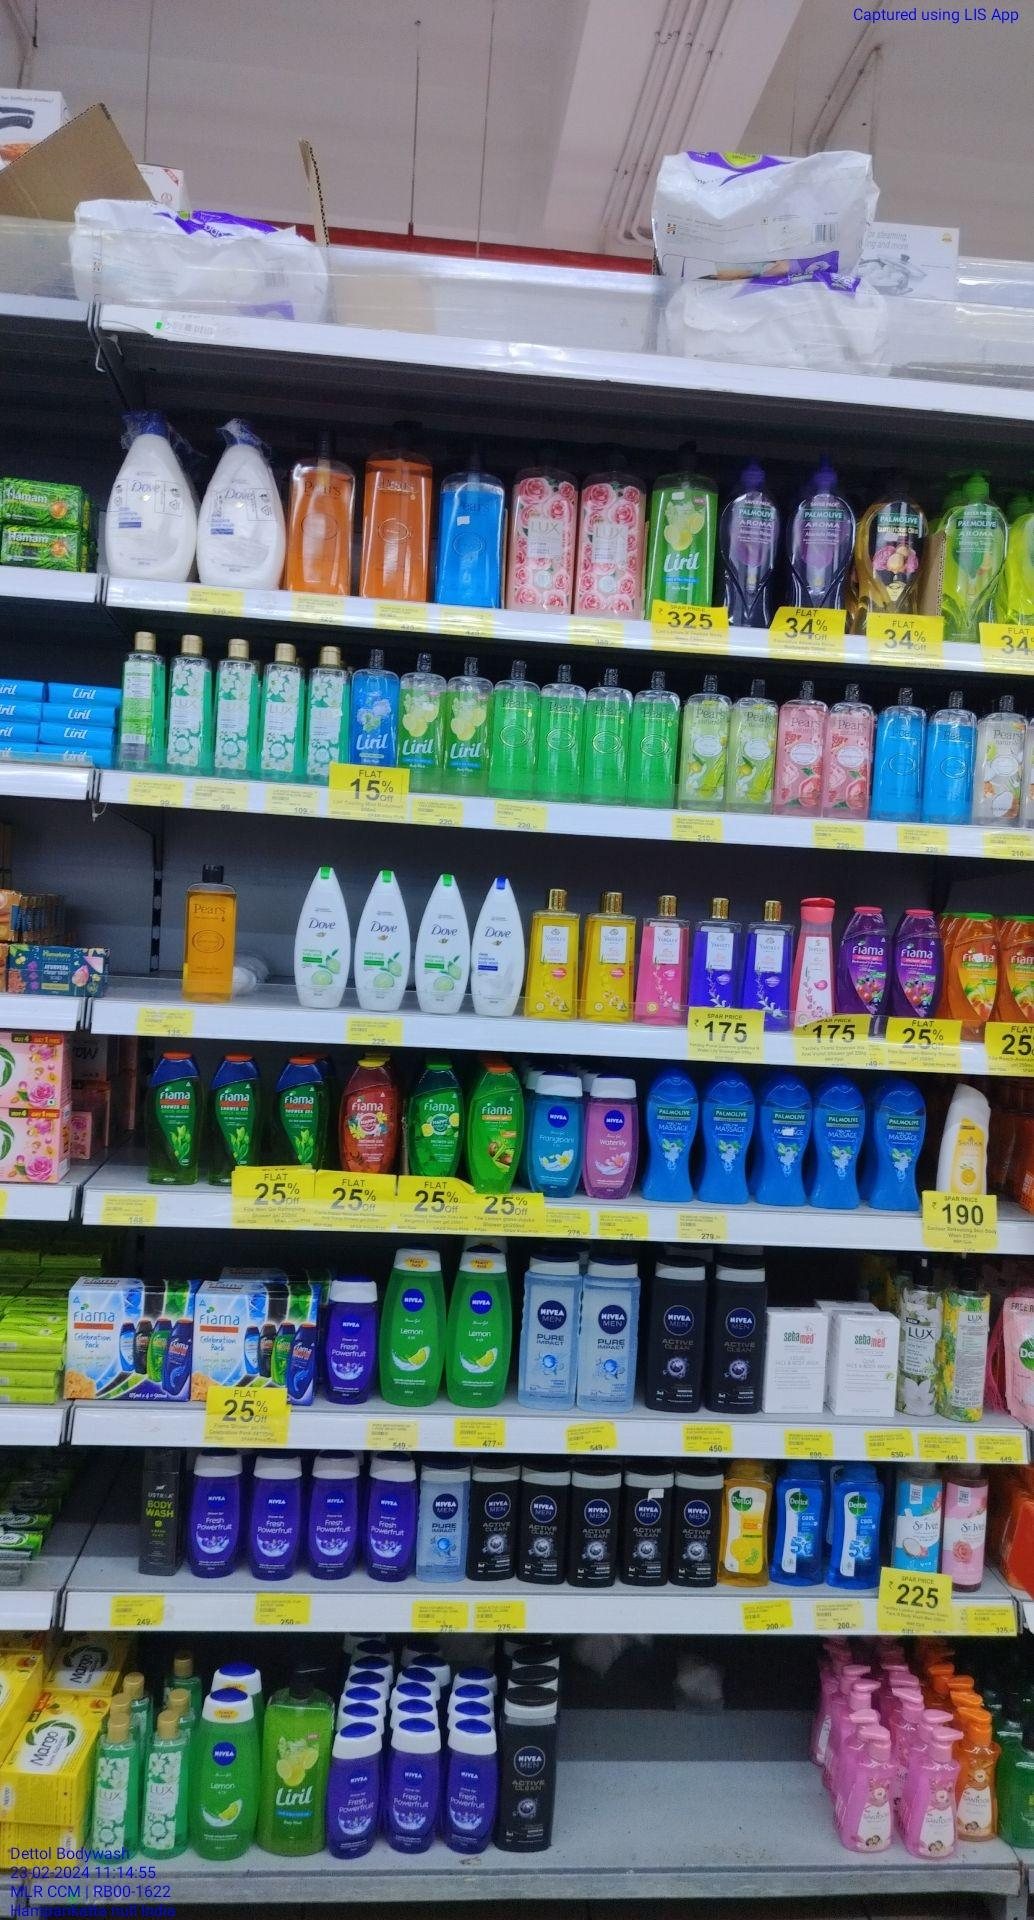Dettol_Bodywash_Cool: (829, 1465, 884, 1590), (774, 1462, 826, 1586)
Dettol_Bodywash_Refresh: (723, 1458, 772, 1586)
Dove_Deep_Moisture_Body_Wash_250ML: (471, 871, 526, 1020)
Dove_Refreshing_Body_Wash_250ML: (353, 866, 411, 1010), (294, 862, 350, 1011), (416, 872, 467, 1013)
Fiama_Shower_Gel_Lemongrass_and_Jojoba_250ML: (466, 1061, 522, 1196)
Fiama_Shower_Gel_Peach_and_Avocado_250ML: (953, 914, 998, 1021), (1003, 909, 1034, 1021)
Liril_Lime_and_Tea_Tree_Oil_Body_Wash_250ML: (396, 648, 443, 794), (446, 651, 489, 797)
Lux_Body_Wash_Skin_Detox_Freesia_Scent_and_Alove_Vera_245ML: (140, 1706, 190, 1860), (211, 632, 257, 779), (257, 637, 302, 786), (167, 632, 213, 773), (304, 640, 350, 761)
Nivea_Shower_Gel_Frangipani_and_Oil_250ML: (525, 1072, 579, 1199)
Nivea_Shower_Gel_Fresh_Powerfruit_250ML: (388, 1720, 441, 1859), (252, 1444, 304, 1581), (331, 1719, 381, 1861), (190, 1445, 241, 1583), (364, 1449, 414, 1586), (444, 1719, 494, 1855), (308, 1454, 358, 1584)
Nivea_Shower_Gel_Lemon_and_Oil_250ML: (443, 1241, 513, 1408), (194, 1693, 257, 1860), (379, 1246, 444, 1408)
Nivea_Shower_Gel_Waterlily_and_Oil_250ML: (584, 1073, 635, 1201)
Palmolive_Aroma_Moments_Feel_The_Massage_Shower_Gel_250ML: (641, 1077, 698, 1206), (699, 1078, 755, 1203), (759, 1080, 811, 1208), (815, 1081, 865, 1210), (874, 1086, 923, 1213)
Pears_Naturale_Aloe_Vera_Body_Wash_250ML: (727, 670, 777, 816), (681, 666, 725, 810)
Pears_Pure_Glycerin_and_Lemon_Flower_Extracts_Body_Wash_250ML: (629, 666, 681, 808), (490, 657, 537, 802), (539, 660, 586, 802), (588, 666, 630, 806)
